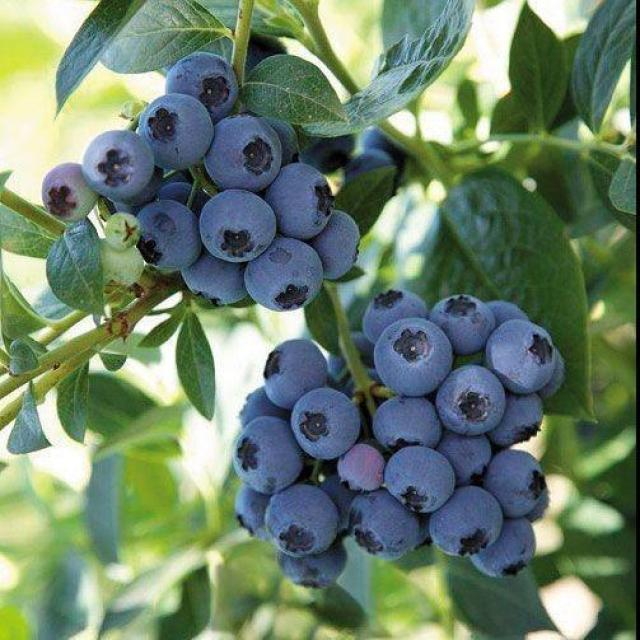BlueBerry - v1: (373, 314, 459, 404), (420, 479, 511, 564), (204, 106, 288, 196), (132, 89, 219, 172), (190, 186, 281, 264), (244, 232, 328, 316), (226, 412, 310, 496), (260, 476, 344, 558), (346, 484, 429, 566), (285, 378, 364, 464), (158, 46, 242, 126), (130, 194, 207, 278), (76, 125, 156, 205), (430, 358, 509, 439), (379, 440, 461, 518), (485, 313, 561, 397), (266, 155, 338, 243), (369, 389, 452, 461), (257, 334, 335, 408), (480, 447, 554, 524), (420, 285, 500, 352), (468, 514, 542, 585), (180, 247, 258, 314), (272, 540, 354, 600), (358, 282, 432, 348), (314, 201, 369, 284), (42, 158, 102, 224), (92, 236, 152, 302), (492, 387, 551, 453), (229, 478, 279, 546), (337, 438, 392, 498), (236, 383, 296, 434), (438, 425, 492, 478), (101, 203, 148, 250), (481, 292, 532, 334)
